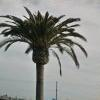Tree: (11, 4, 81, 81)
